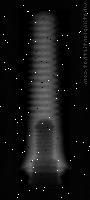Implant Direct: (9, 8, 71, 188)
